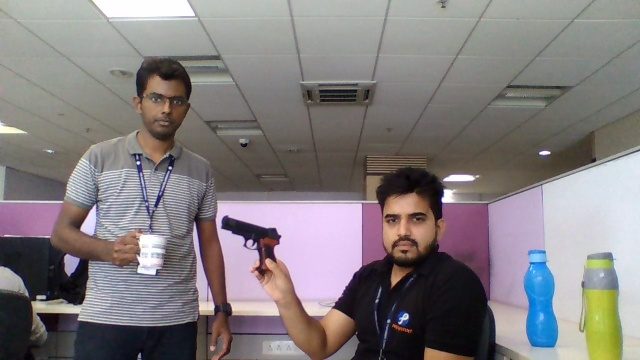gun: (221, 213, 281, 259)
